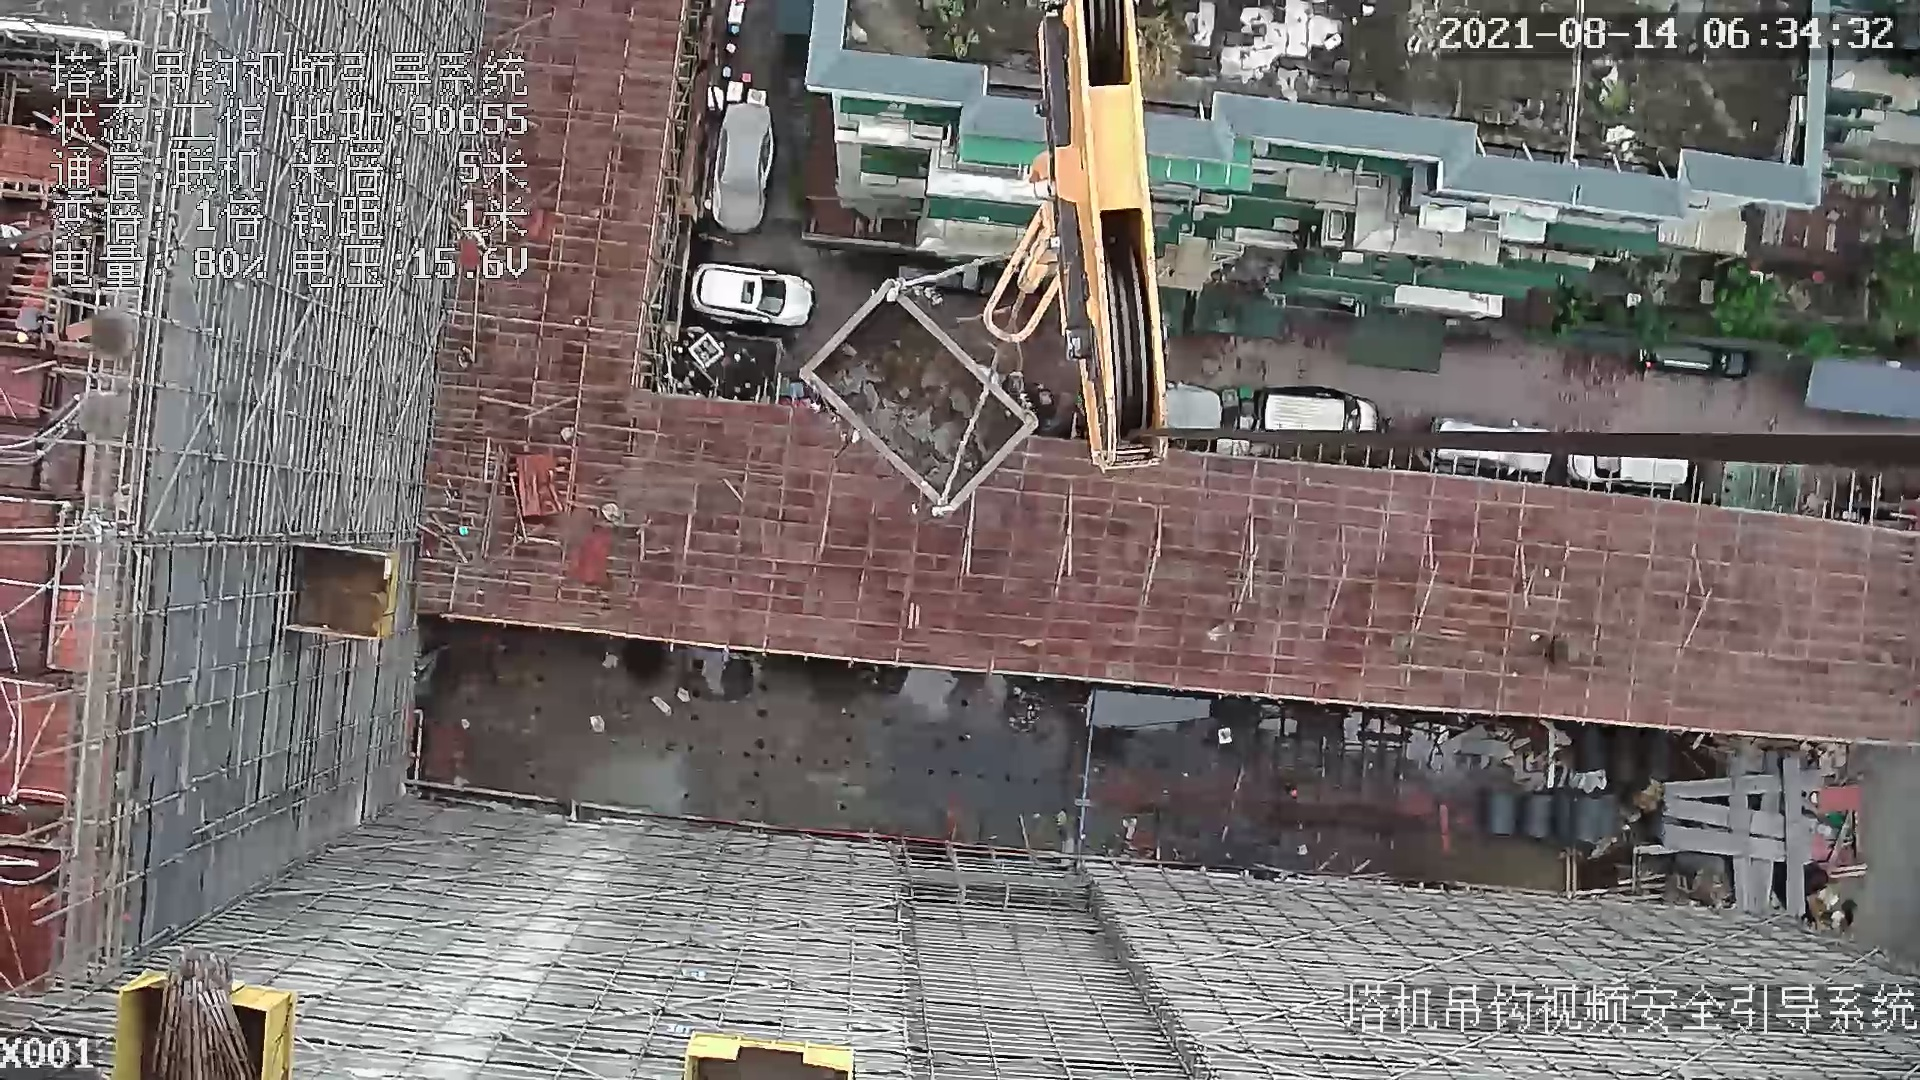hook: (978, 1, 1170, 469)
hopper: (804, 276, 1048, 541)
scaffold: (140, 953, 266, 1080)
